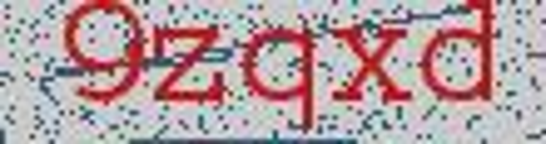9: (57, 1, 148, 113)
d: (420, 2, 505, 104)
q: (240, 14, 325, 136)
x: (333, 22, 417, 112)
z: (151, 16, 235, 111)
